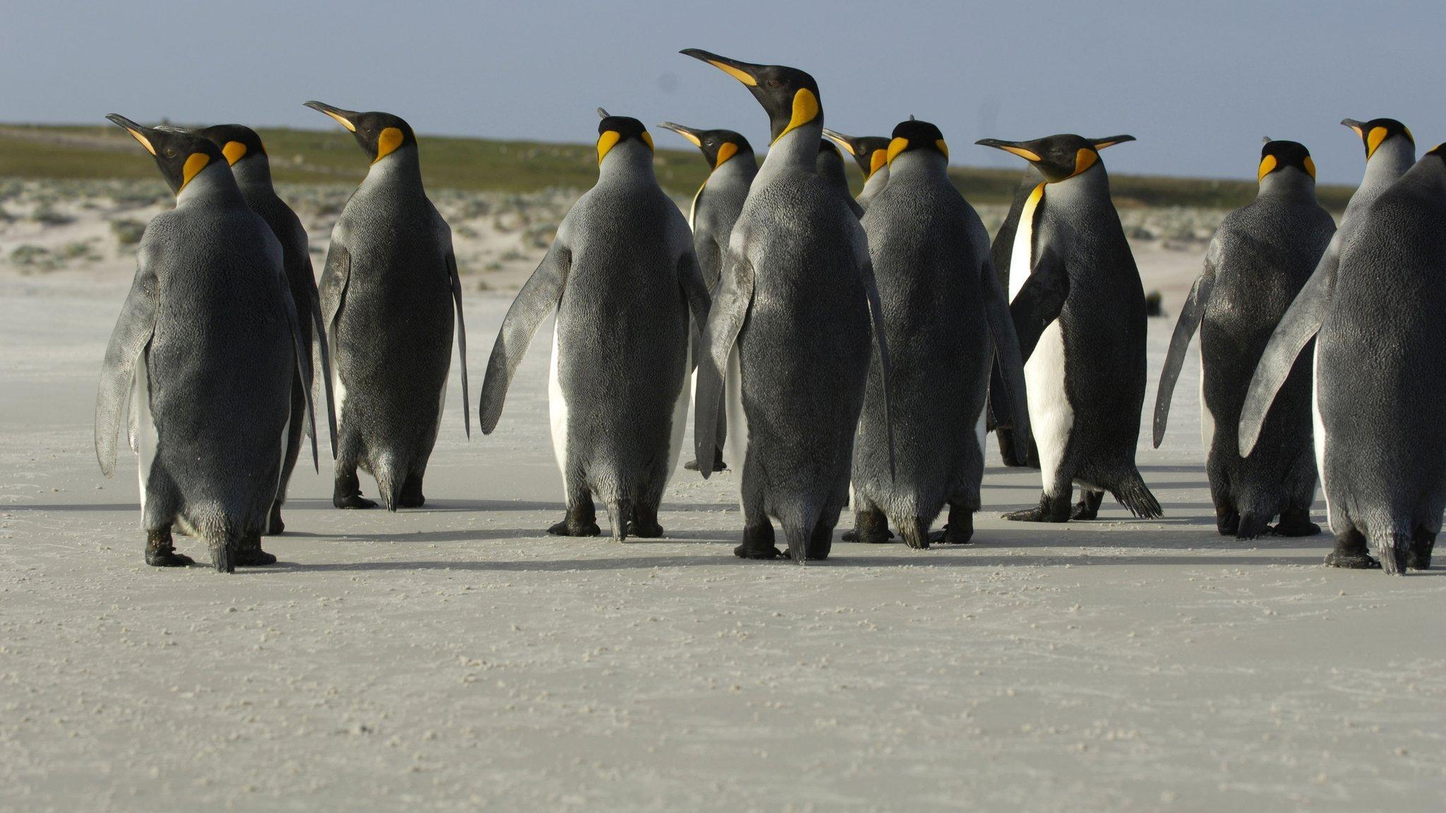Penguin: (683, 48, 897, 562), (96, 113, 318, 573), (480, 107, 709, 541), (841, 114, 1029, 550), (1152, 137, 1335, 539), (974, 133, 1161, 522), (301, 100, 469, 511), (1238, 119, 1414, 456), (1313, 142, 1445, 572), (196, 125, 335, 460), (658, 121, 757, 294), (264, 344, 309, 536), (991, 163, 1044, 304), (988, 337, 1039, 469), (822, 130, 890, 209), (817, 138, 864, 219), (713, 402, 728, 471), (1087, 134, 1136, 150), (685, 459, 695, 470)
